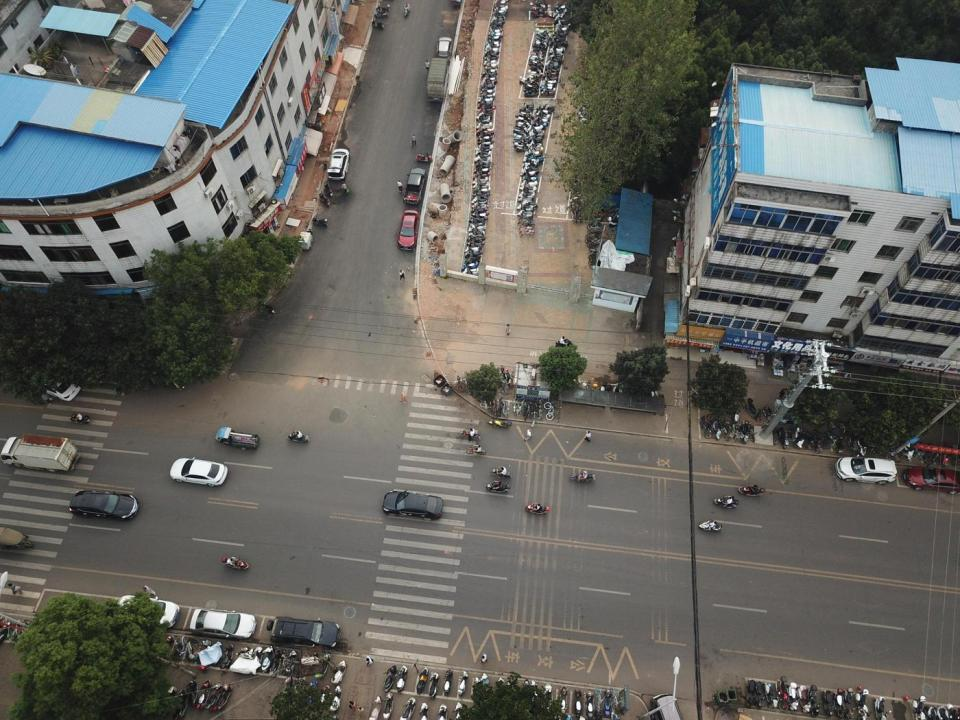car: (111, 594, 180, 631), (266, 617, 342, 650), (188, 606, 256, 640), (69, 490, 139, 521), (381, 491, 444, 522), (835, 456, 898, 486), (170, 458, 229, 487), (903, 466, 960, 495), (396, 210, 420, 250), (38, 378, 81, 400), (648, 694, 684, 720), (327, 148, 349, 180), (436, 37, 453, 61)
truck: (0, 433, 81, 473), (426, 56, 450, 103), (405, 168, 427, 203)
